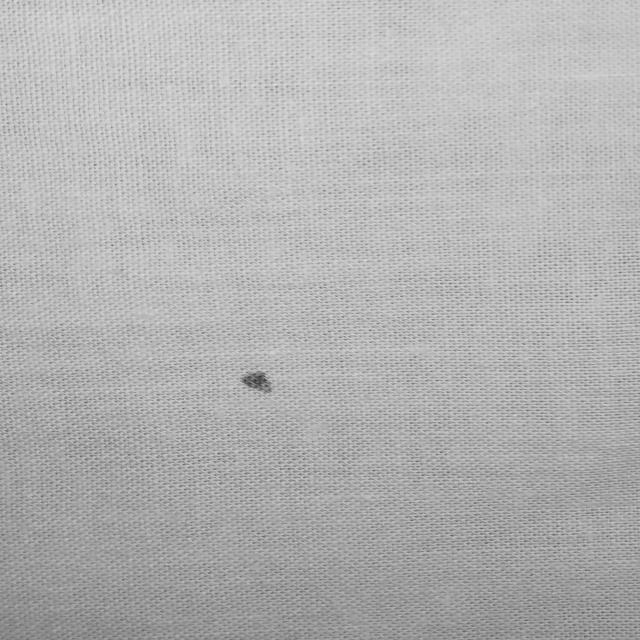Hole: (236, 352, 292, 402)
